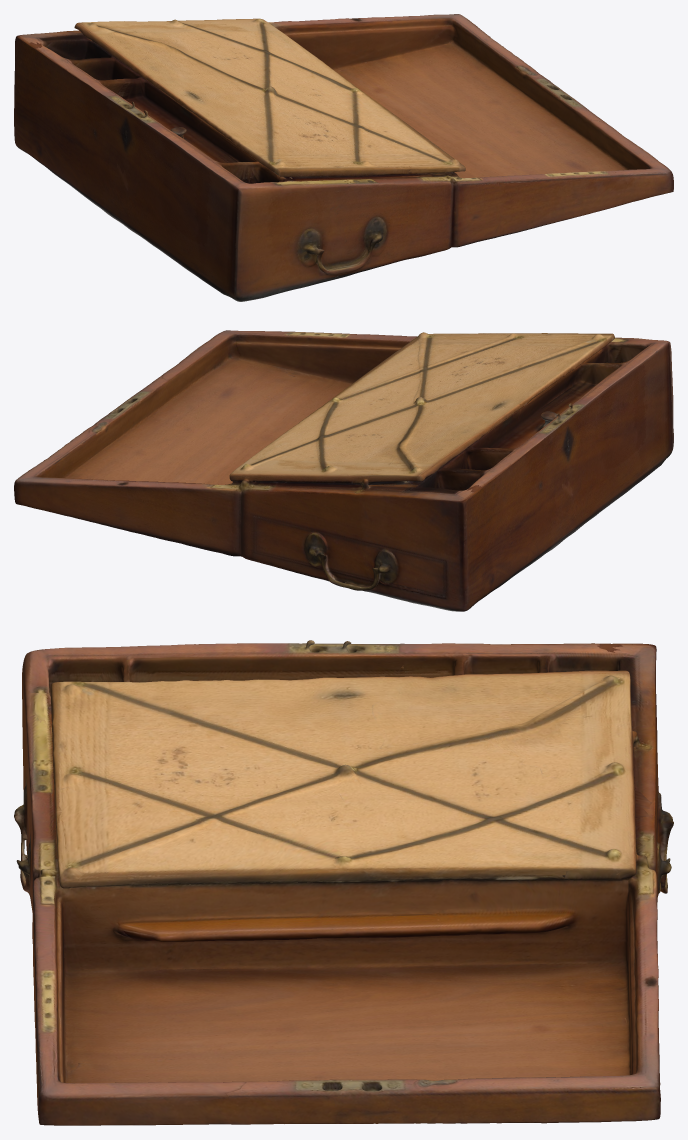
The model's file is jane_austen_desk_open_view_2_add_86841.glb.
3 views of the same model, one above another, from view 1: azimuth 30°, elevation 25°; view 2: azimuth 150°, elevation 25°; view 3: azimuth 270°, elevation 25° (orthographic). The views are drawn at different scales.
Parts seen in each view (by area): view 1: Object_2; view 2: Object_2; view 3: Object_2.
Part boxes in pixels (x1,y1,x2,y2): Object_2: (14, 14, 673, 301); Object_2: (14, 330, 673, 611); Object_2: (14, 640, 673, 1125).
Size of the model in its own units: 2.69 by 0.7028 by 2.33.
1 material, 1 textured.
